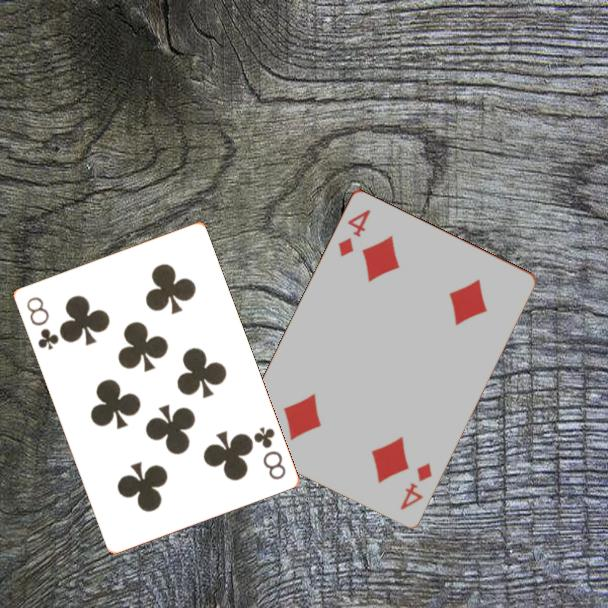c08: (23, 293, 61, 352), (250, 423, 288, 482)
d04: (334, 205, 373, 259), (396, 459, 435, 512)
